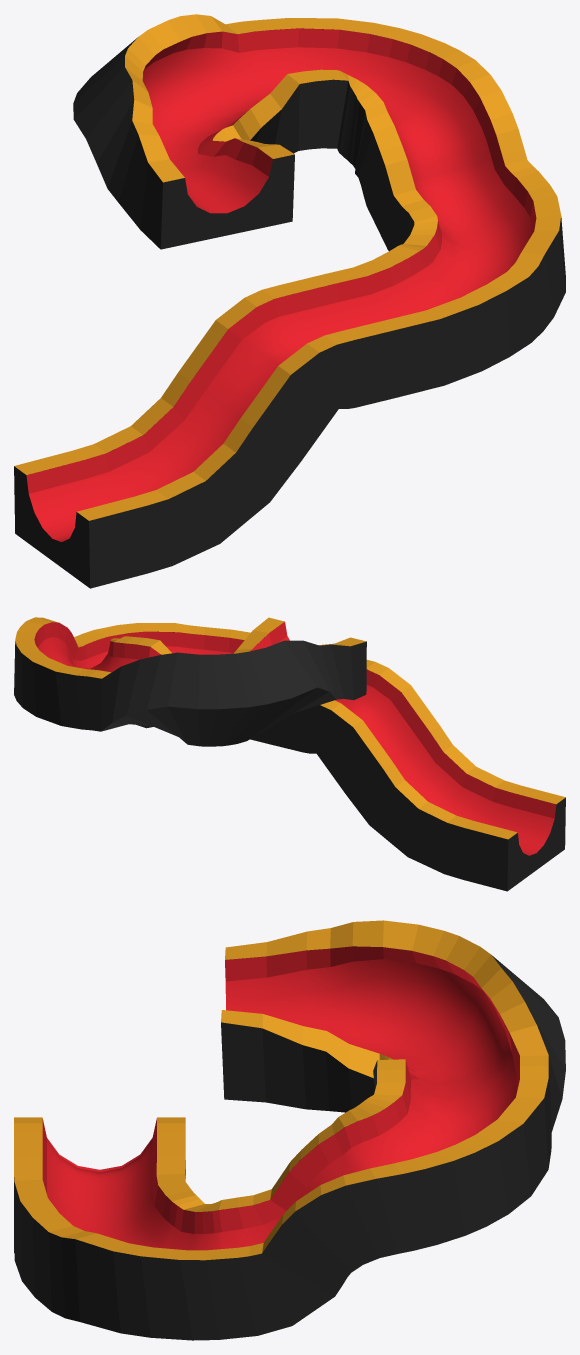
Rendered from Water Slide.glb.
3 views of the same model, one above another, from view 1: azimuth 30°, elevation 25°; view 2: azimuth 150°, elevation 25°; view 3: azimuth 270°, elevation 25° (orthographic). The views are drawn at different scales.
Parts seen in each view (by area): view 1: Cube; view 2: Cube; view 3: Cube.
Part boxes in pixels (x1,y1,x2,y2): Cube: (14,14,565,588); Cube: (14,617,565,891); Cube: (14,920,565,1340).
Bounding box in the file's own units: 25.5 × 15.05 × 19.3.
